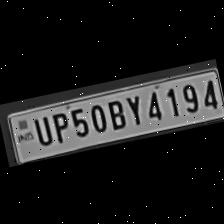0: (85, 98, 108, 134)
1: (158, 82, 182, 119)
4: (138, 85, 164, 122), (195, 74, 221, 109)
5: (64, 102, 90, 139)
9: (175, 78, 200, 114)
B: (102, 95, 127, 131)
P: (46, 107, 70, 144)
U: (28, 112, 52, 148)
Y: (120, 90, 144, 127)
